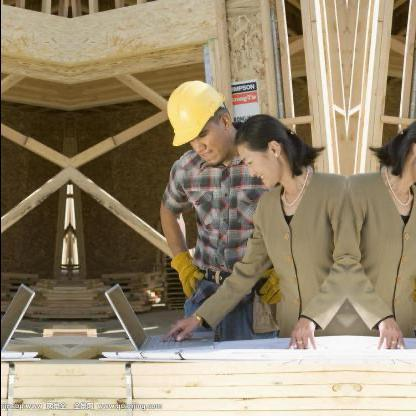Helmet: (158, 70, 238, 166)
